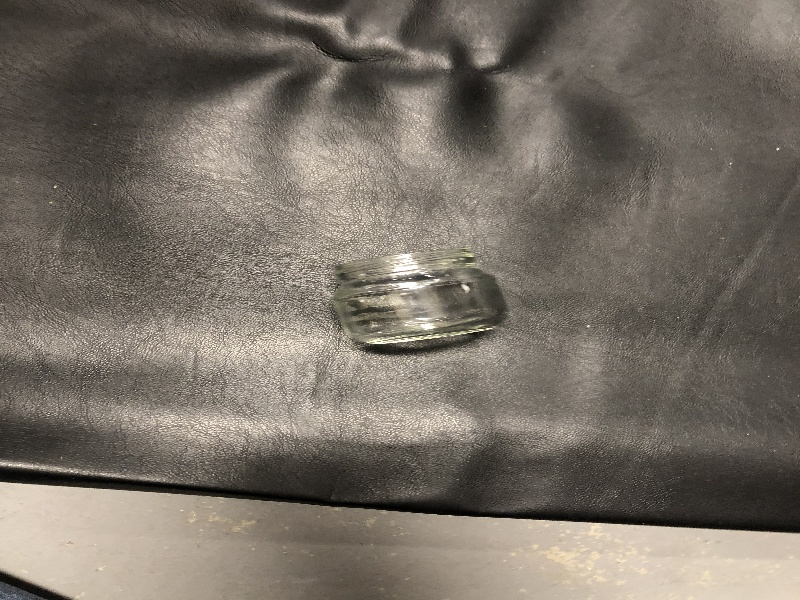glass: (326, 245, 513, 361)
